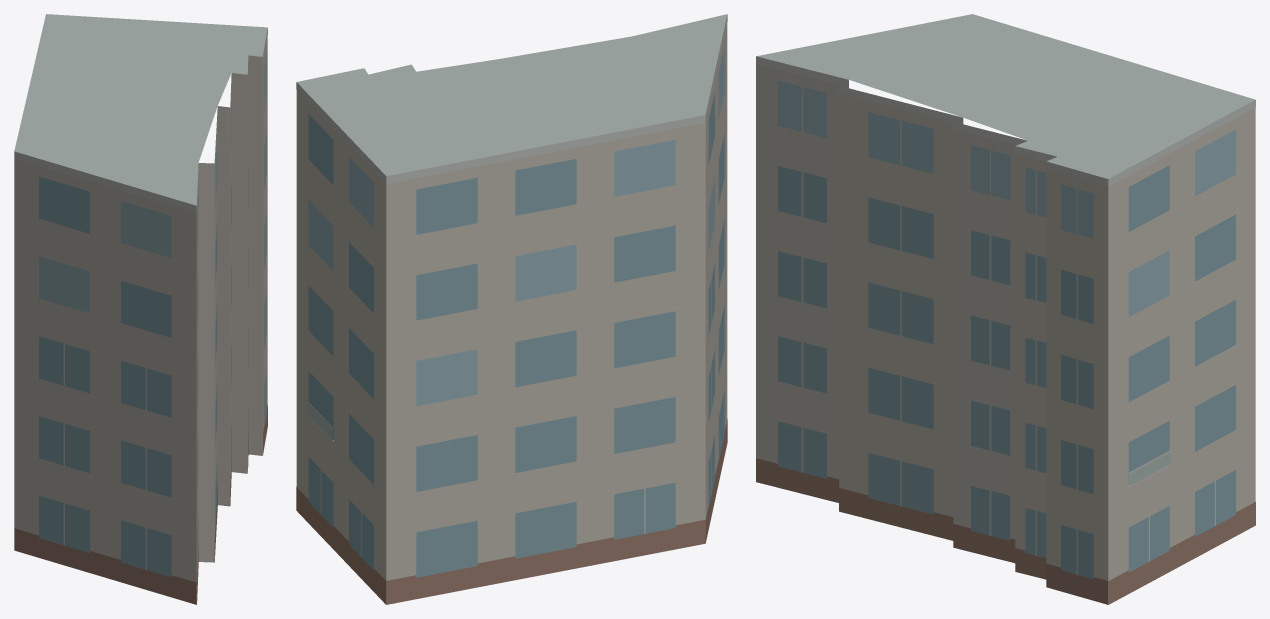
The model's file is survey-upis-32740118.glb.
3 renders of one model, left to right at view 1: azimuth 30°, elevation 25°; view 2: azimuth 150°, elevation 25°; view 3: azimuth 270°, elevation 25°, orthographic. The views are drawn at different scales.
Visible parts, largest first — view 1: survey-upis-32740118.tmp; view 2: survey-upis-32740118.tmp; view 3: survey-upis-32740118.tmp.
Part boxes in pixels (x1,y1,x2,y2): survey-upis-32740118.tmp: (14, 14, 267, 604); survey-upis-32740118.tmp: (296, 14, 727, 604); survey-upis-32740118.tmp: (756, 14, 1255, 604).
Size of the model in its own units: 11.24 by 13.5 by 14.37.
